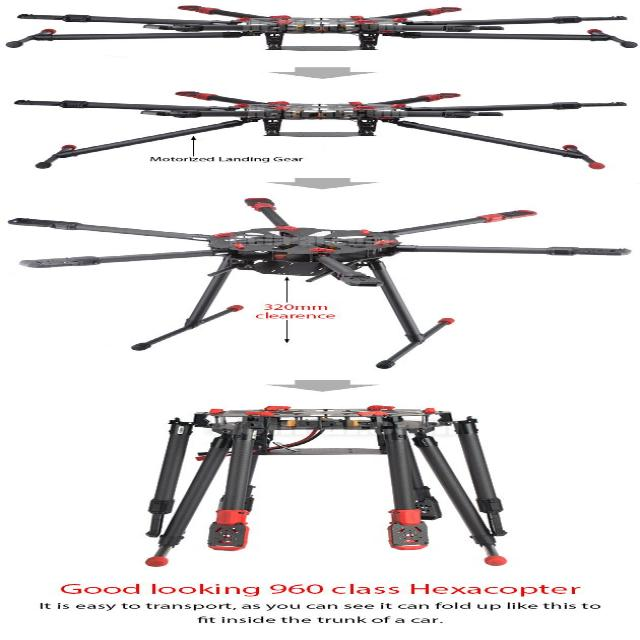drone: (1, 196, 640, 357), (137, 399, 602, 564), (0, 96, 640, 162), (0, 0, 640, 60)
